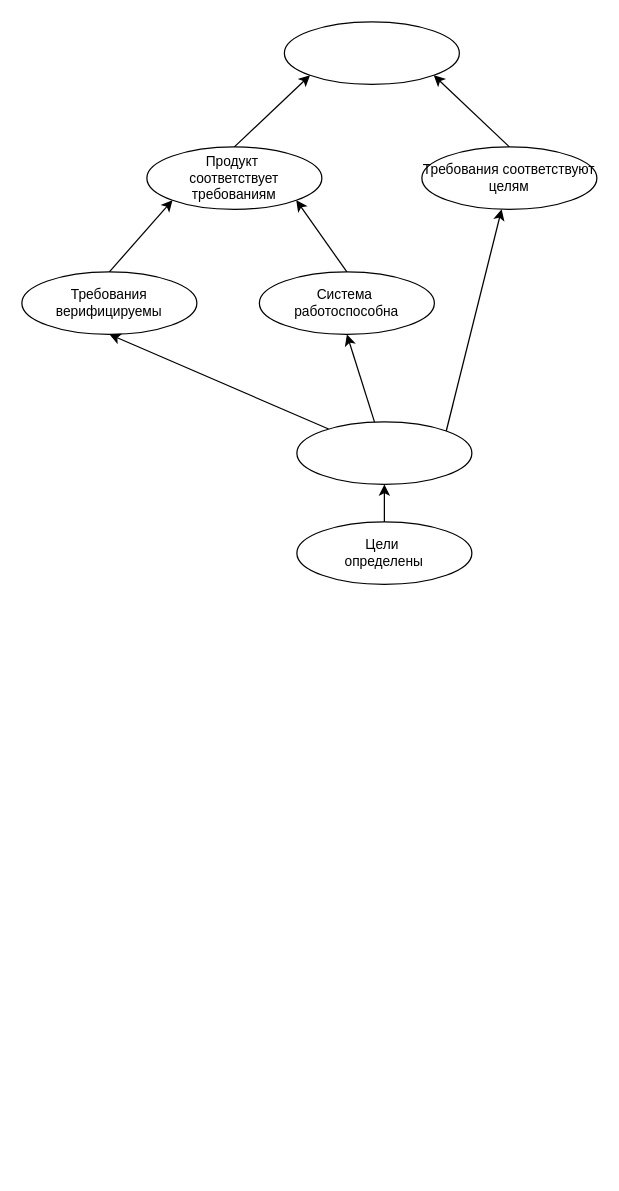
The diagram is 619 pixels wide and 1191 high, and some of its shapes have lost their labels. The centre of each missing label's shape, as x and y in pixels:
"Продукт помогает достижению цели" goes at pixel 371 52.
"Требования понятны" goes at pixel 384 452.
